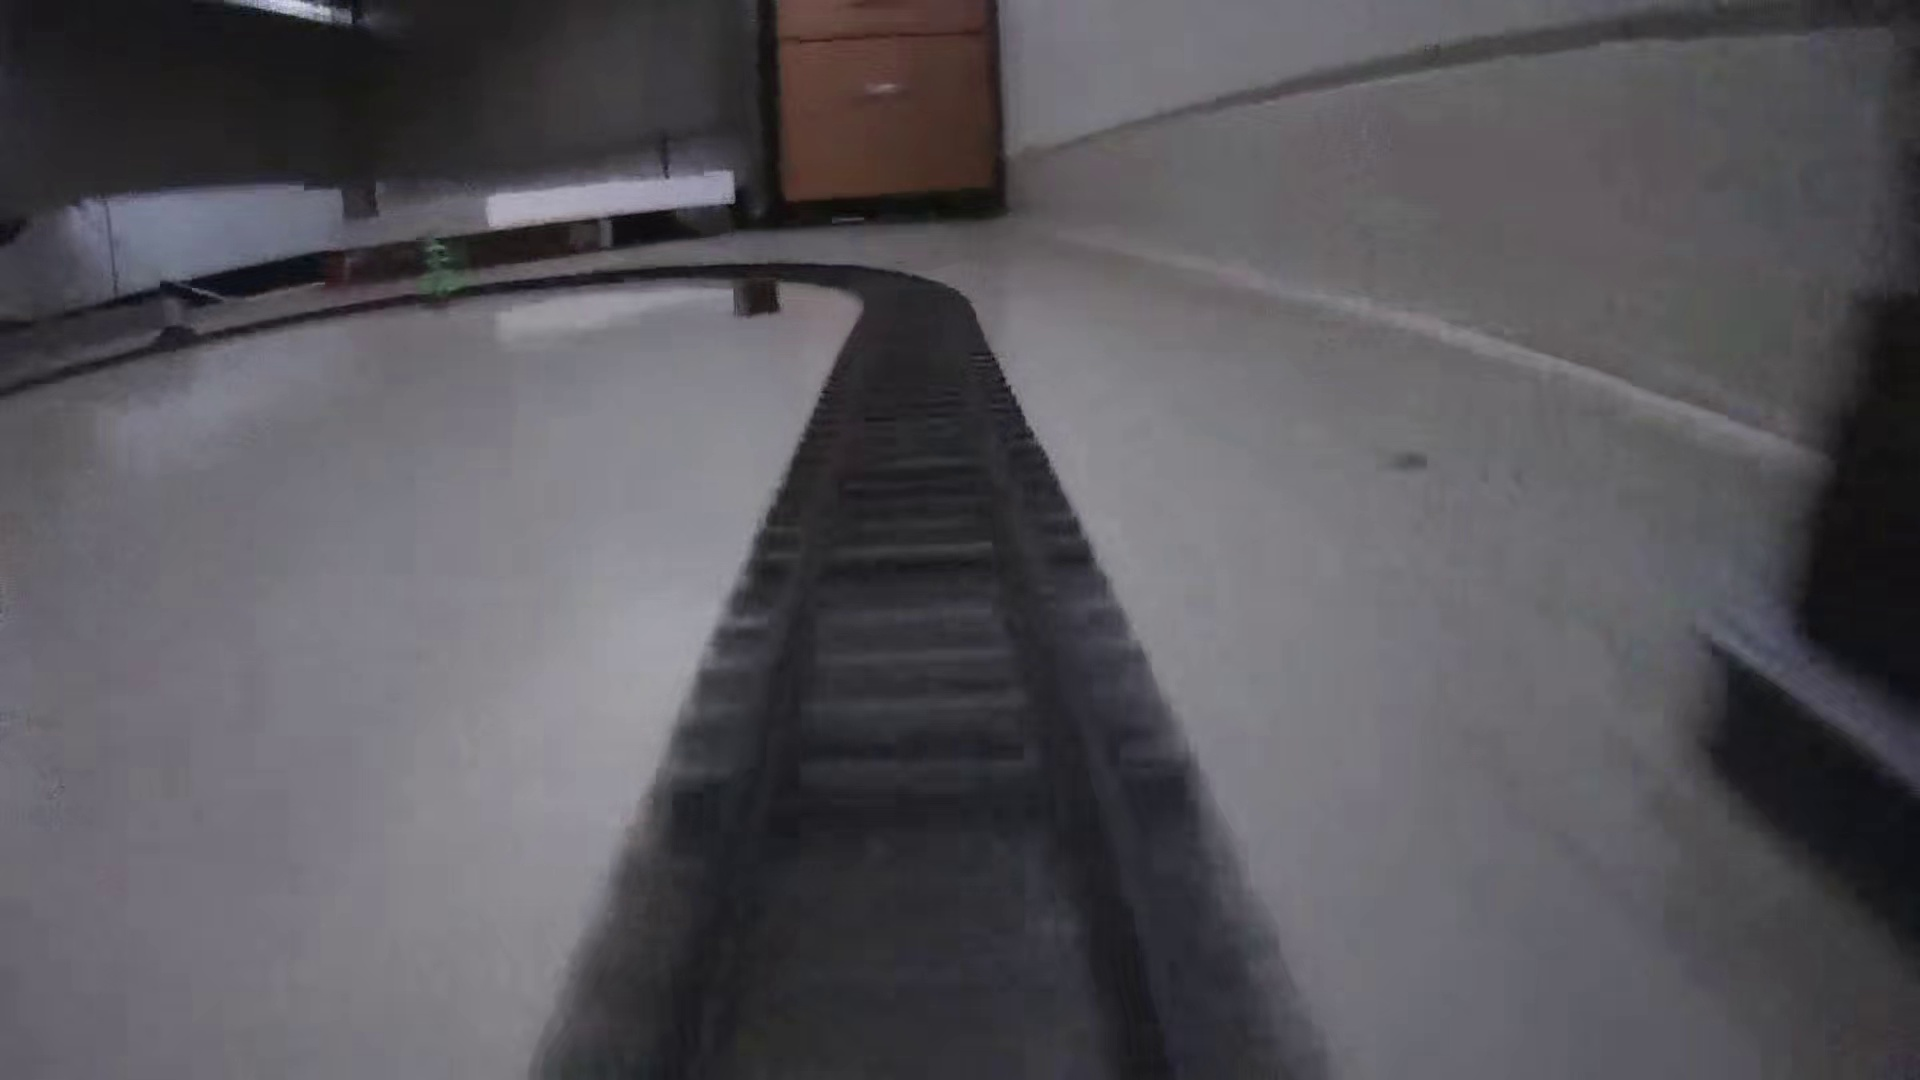box: (725, 275, 787, 324)
tree: (417, 223, 459, 311)
